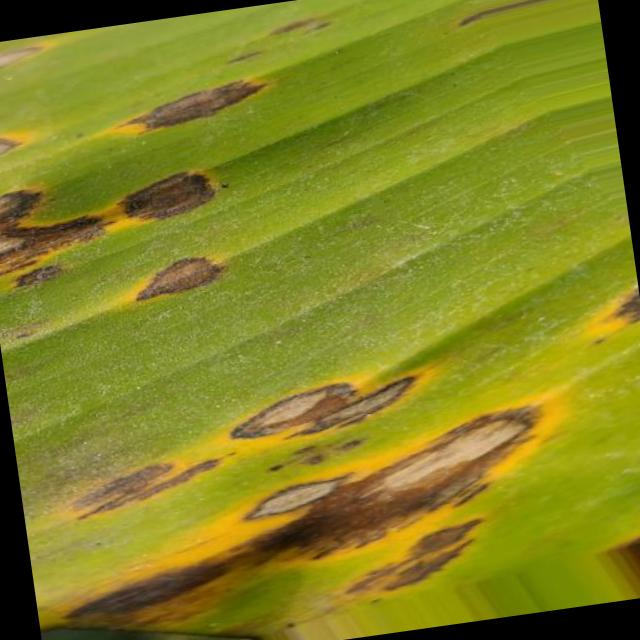Banana_Yellow_Sigatoka: (237, 412, 612, 628), (0, 153, 228, 278), (215, 342, 432, 448), (95, 60, 302, 143), (112, 225, 242, 316), (73, 446, 214, 526), (564, 271, 640, 347)
